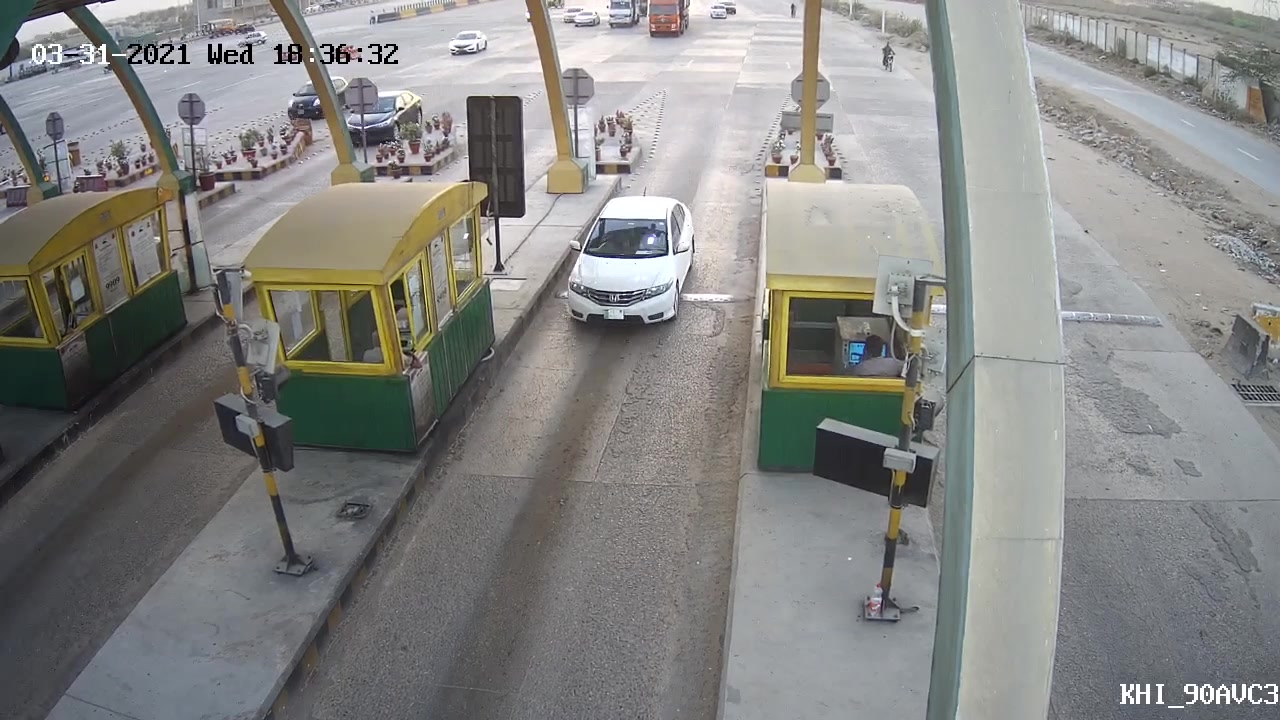F1: (553, 188, 701, 329)
